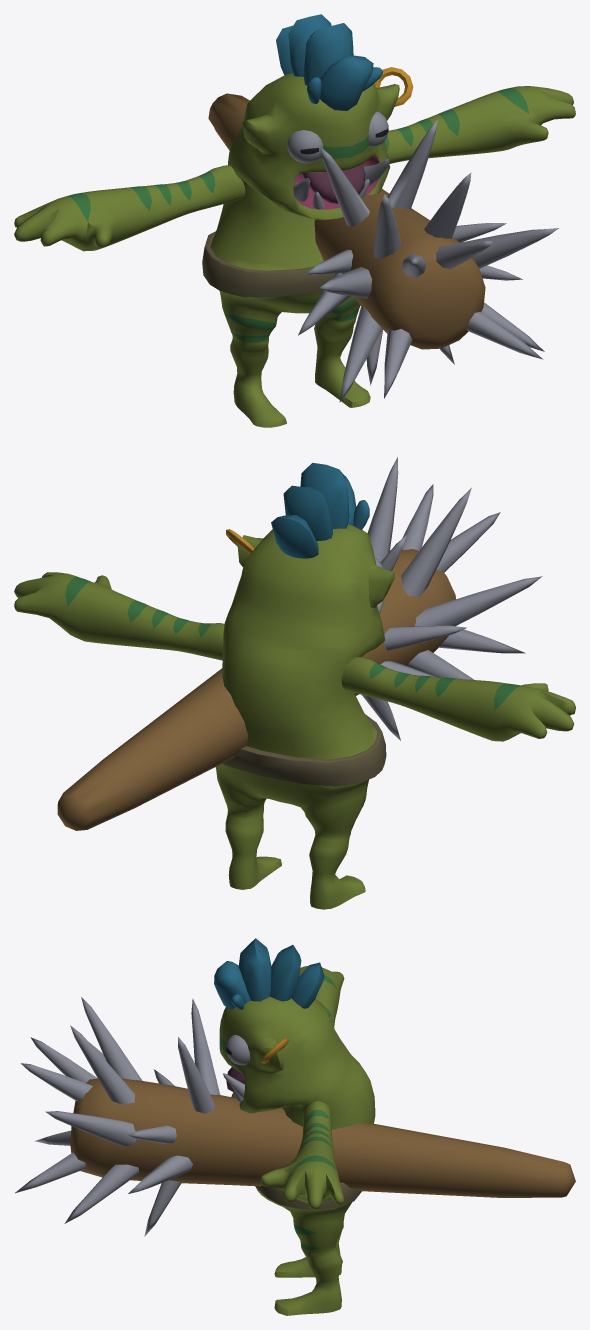
File: Orc_static.glb
3 views of the same model, one above another, from view 1: azimuth 30°, elevation 25°; view 2: azimuth 150°, elevation 25°; view 3: azimuth 270°, elevation 25° (orthographic). The views are drawn at different scales.
Visible parts, largest first — view 1: Orc, Orc_Weapon; view 2: Orc, Orc_Weapon; view 3: Orc_Weapon, Orc.
Boxes of the visible parts, box(x1,y1,x2,y2) form: Orc: box(14, 14, 575, 427); Orc_Weapon: box(208, 93, 558, 402); Orc: box(14, 462, 575, 909); Orc_Weapon: box(57, 457, 542, 830); Orc_Weapon: box(15, 997, 575, 1236); Orc: box(214, 938, 375, 1315).
Size of the model in its own units: 200 by 137 by 200.
